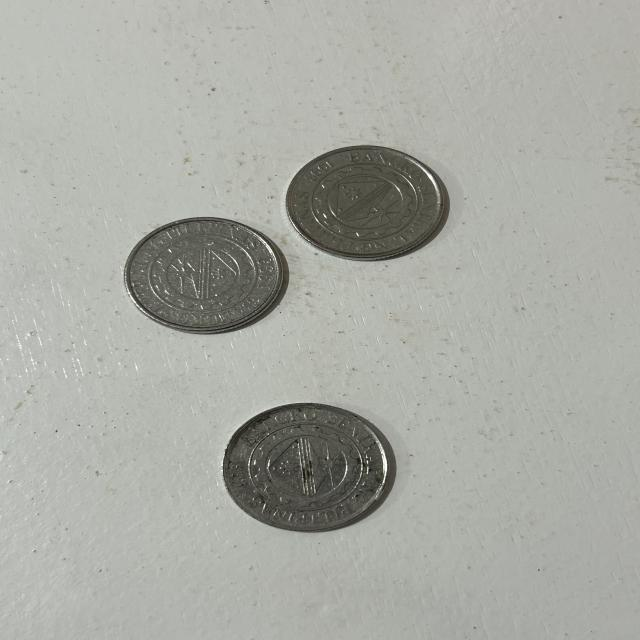1_Old_Back: (248, 421, 374, 515), (304, 160, 421, 248), (148, 233, 268, 314)
